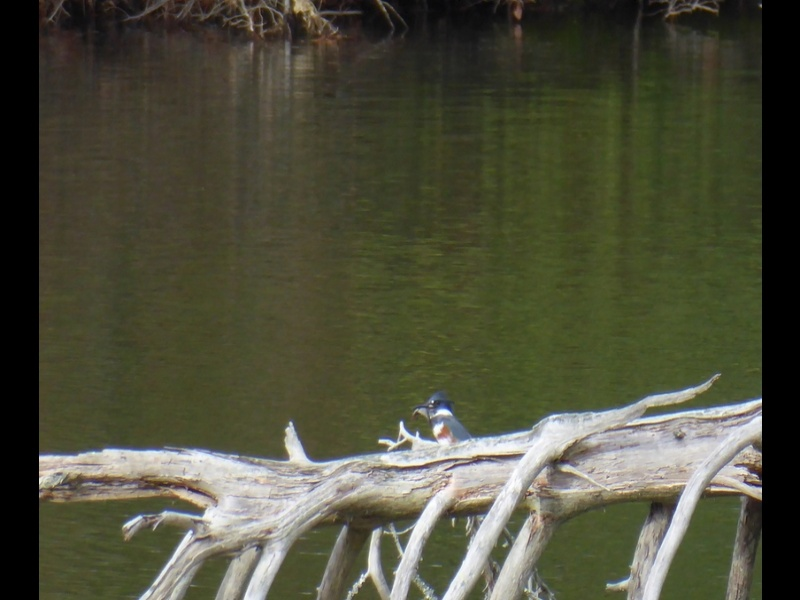kingfisher: (408, 394, 476, 449)
